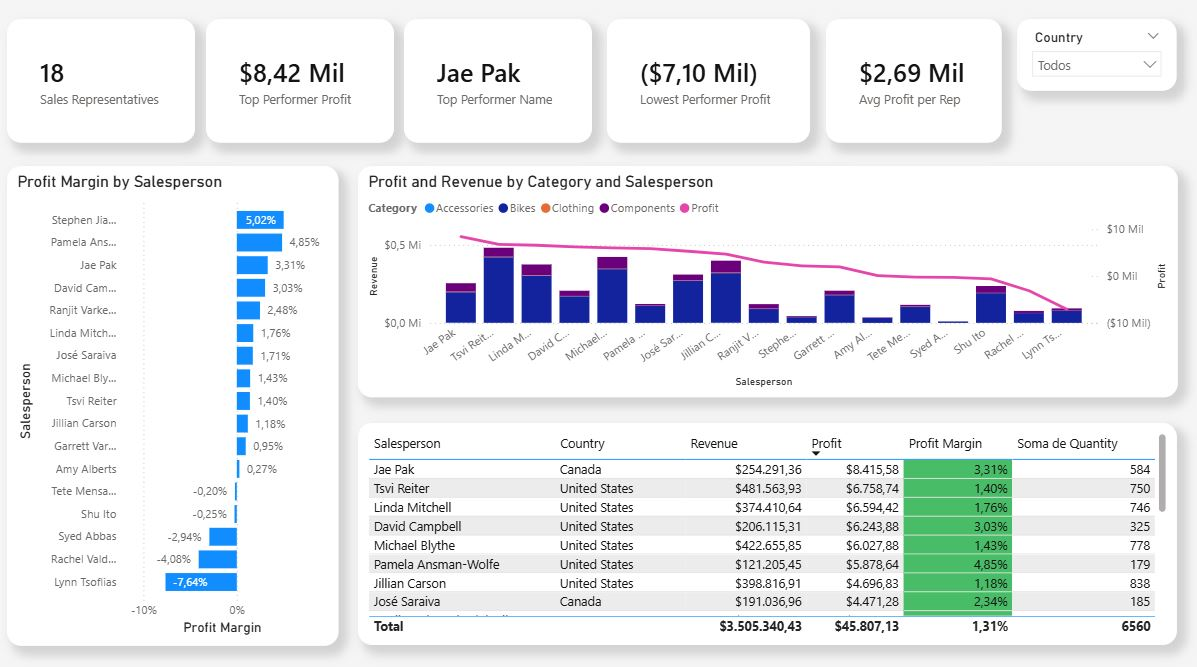

What the dashboard file says about the page in this screenshot:
{"tool":"powerbi","page":{"name":"Salesperson Performance","canvas":[1280,720],"ordinal":4},"visuals":[{"type":"lineStackedColumnComboChart","title":"Profit and Revenue by Category and Salesperson","fields":{"Y":["Key Measures.Revenue"],"Y2":["Key Measures.Profit"],"Category":["Salesperson.Salesperson"],"Series":["Products.Category"]},"box":[384.2,181.9,867.6,245.1],"z":0},{"type":"barChart","title":"Profit Margin by Salesperson","fields":{"Category":["Salesperson.Salesperson"],"Y":["Key Measures.Profit Margin"]},"box":[12.6,181.9,351.1,507.7],"z":1000},{"type":"tableEx","fields":{"Values":["Salesperson.Salesperson","Region.Country","Key Measures.Revenue","Key Measures.Profit","Key Measures.Profit Margin","Sum(Sales.Quantity)"]},"box":[384.2,454.2,866.6,235.4],"z":2000},{"type":"slicer","fields":{"Values":["Region.Country"]},"box":[1082,26.5,169.4,76.2],"z":3000},{"type":"cardVisual","fields":{"Data":["Count(Salesperson.EmployeeID)"]},"box":[12.7,26.5,199,131.3],"z":5000},{"type":"cardVisual","fields":{"Data":["Key Measures.Top Performer Profit"]},"box":[223.4,26.5,199,131.3],"z":6000},{"type":"cardVisual","fields":{"Data":["Key Measures.Top Performer Name"]},"box":[433,26.5,199,131.3],"z":7000},{"type":"cardVisual","fields":{"Data":["Key Measures.Lowest Performer Profit"]},"box":[647.9,26.5,214.9,131.3],"z":8000},{"type":"cardVisual","fields":{"Data":["Key Measures.Avg Profit per Rep"]},"box":[879.8,26.5,186.3,131.3],"z":9000}]}

Visuals, with their boxes in screenshot pixels (x1, y1, x2, y2), scaled from the page's 1280x720 canvas onto the 1197x667 screenshot:
"Profit and Revenue by Category and Salesperson" lineStackedColumnComboChart: [359, 169, 1171, 396]
"Profit Margin by Salesperson" barChart: [12, 169, 340, 639]
tableEx - Salesperson.Salesperson x Region.Country: [359, 421, 1170, 639]
slicer - Region.Country: [1012, 25, 1170, 95]
cardVisual - Count(Salesperson.EmployeeID): [12, 25, 198, 146]
cardVisual - Key Measures.Top Performer Profit: [209, 25, 395, 146]
cardVisual - Key Measures.Top Performer Name: [405, 25, 591, 146]
cardVisual - Key Measures.Lowest Performer Profit: [606, 25, 807, 146]
cardVisual - Key Measures.Avg Profit per Rep: [823, 25, 997, 146]
